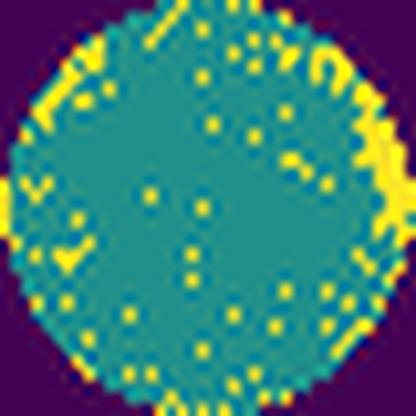Edge-Loc: (346, 89, 416, 246), (25, 34, 107, 138), (306, 38, 354, 88)
